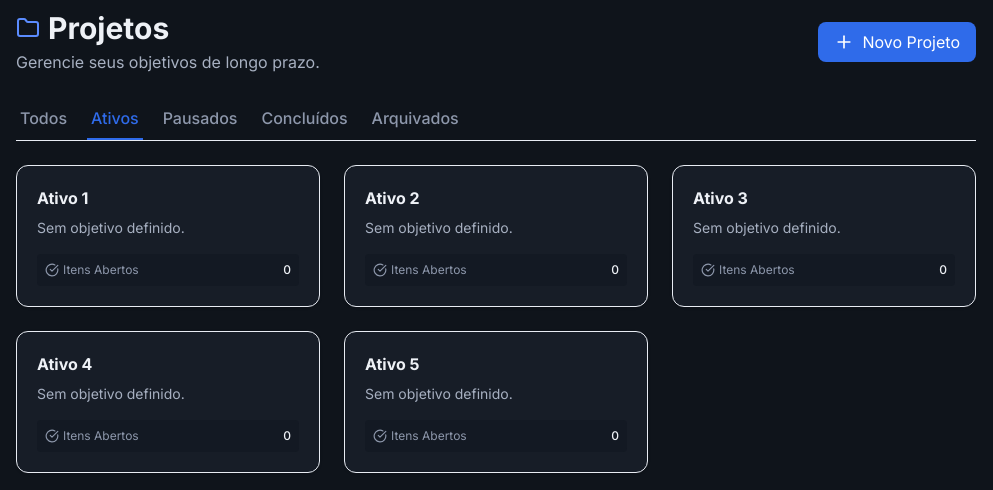
Test: ProjetosPage — filtros › aba "Arquivados" mostra só projetos com status archived
Expected: the heading "Ativo 1" is shown, [37,186,88,210]
Click the button "Arquivados".
click(415, 123)  # box [368,106,463,140]
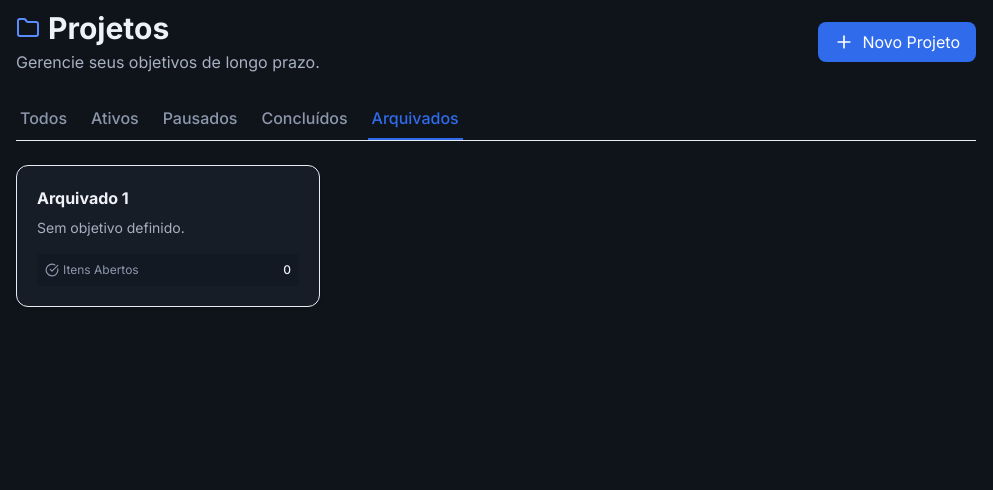
Expected: the heading "Arquivado 1" is shown, [37,186,129,210]
Expected: the link "Ativo 1" is gone
